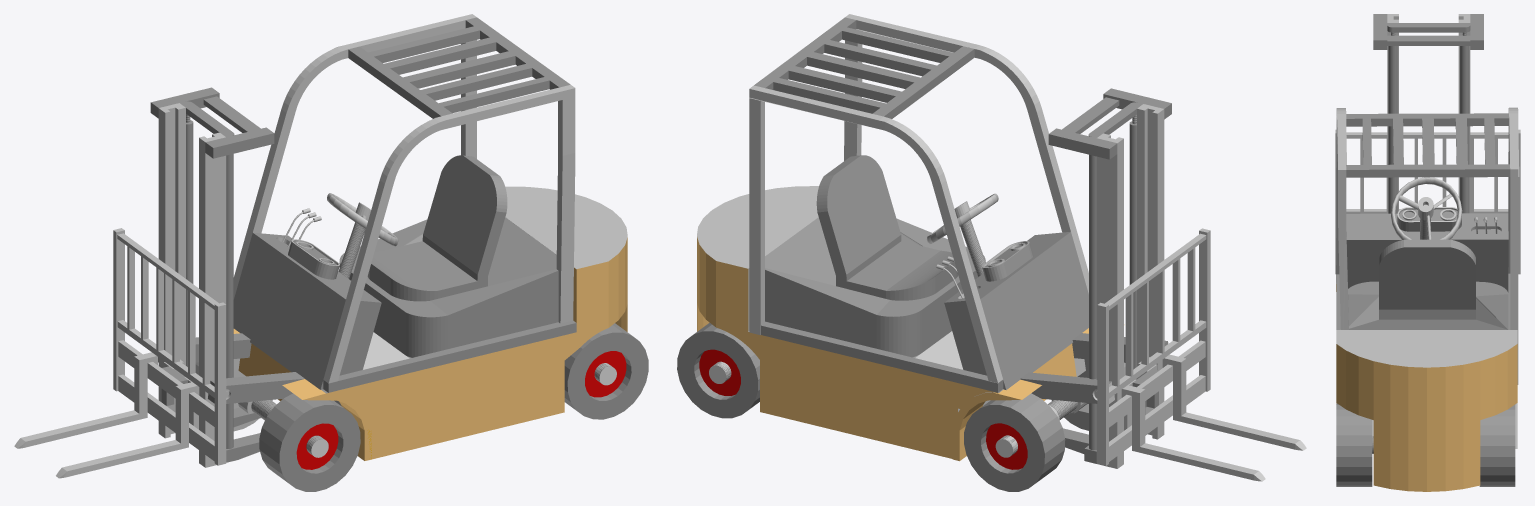
Rendered from Gabelstapler.glb.
3 views of the same model, side by side, from view 1: azimuth 30°, elevation 25°; view 2: azimuth 150°, elevation 25°; view 3: azimuth 270°, elevation 25° (orthographic). The views are drawn at different scales.
Visible parts, largest first — view 1: empty_2, empty_3, empty_59, empty_11, empty_4, empty_17, empty_48, empty_13, empty_49, empty_36, empty_16, empty_23 (+9 smaller); view 2: empty_2, empty_3, empty_48, empty_11, empty_4, empty_39, empty_59, empty_13, empty_17, empty_54, empty_36, empty_16 (+11 smaller); view 3: empty_2, empty_3, empty_4, empty_11, empty_49, empty_54, empty_48, empty_59, empty_61, empty_18, empty_17, empty_13 (+6 smaller).
Boxes of the visible parts, bbox=[...] form: empty_2: bbox=[195, 17, 576, 491]; empty_3: bbox=[238, 237, 627, 460]; empty_59: bbox=[323, 84, 575, 383]; empty_11: bbox=[150, 87, 274, 462]; empty_4: bbox=[158, 186, 627, 405]; empty_17: bbox=[158, 103, 185, 438]; empty_48: bbox=[233, 14, 476, 299]; empty_13: bbox=[199, 132, 226, 467]; empty_49: bbox=[564, 323, 648, 419]; empty_36: bbox=[56, 382, 199, 478]; empty_16: bbox=[14, 352, 157, 448]; empty_23: bbox=[214, 302, 226, 465]; empty_2: bbox=[754, 17, 1168, 453]; empty_3: bbox=[697, 237, 1124, 458]; empty_48: bbox=[749, 85, 1002, 382]; empty_11: bbox=[1048, 88, 1171, 463]; empty_4: bbox=[697, 186, 1114, 411]; empty_39: bbox=[964, 393, 1065, 491]; empty_59: bbox=[844, 14, 1088, 293]; empty_13: bbox=[1137, 104, 1164, 439]; empty_17: bbox=[1096, 133, 1123, 468]; empty_54: bbox=[677, 322, 759, 418]; empty_36: bbox=[1162, 354, 1306, 450]; empty_16: bbox=[1121, 385, 1265, 481]; empty_2: bbox=[1336, 113, 1510, 329]; empty_3: bbox=[1336, 284, 1517, 491]; empty_4: bbox=[1336, 207, 1517, 448]; empty_11: bbox=[1373, 14, 1483, 213]; empty_49: bbox=[1336, 403, 1372, 486]; empty_54: bbox=[1479, 404, 1515, 486]; empty_48: bbox=[1508, 107, 1519, 384]; empty_59: bbox=[1336, 108, 1348, 329]; empty_61: bbox=[1391, 177, 1462, 239]; empty_18: bbox=[1346, 132, 1508, 213]; empty_17: bbox=[1458, 14, 1470, 213]; empty_13: bbox=[1387, 14, 1398, 213].
Size of the model in its own units: 14.23 by 8.25 by 4.49.
46 materials, 7 textured.
